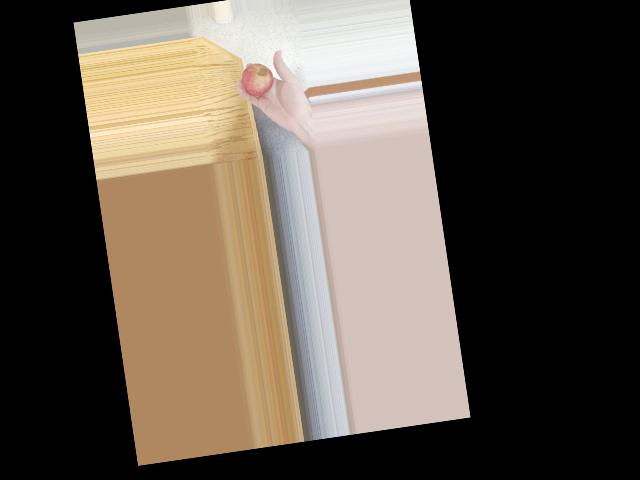apple: (239, 60, 278, 100)
